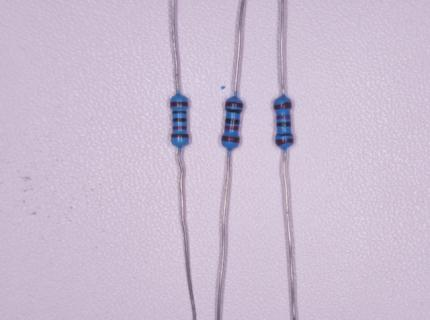Black band: (226, 118, 239, 125), (225, 108, 242, 113), (276, 122, 291, 127), (172, 111, 187, 115), (173, 118, 187, 122), (276, 133, 292, 136)
Brown band: (221, 136, 239, 143), (274, 102, 291, 109), (276, 139, 293, 146), (226, 102, 243, 108), (170, 102, 187, 107), (171, 134, 188, 138)
Red band: (277, 115, 290, 120), (172, 126, 187, 130), (225, 126, 238, 130)
